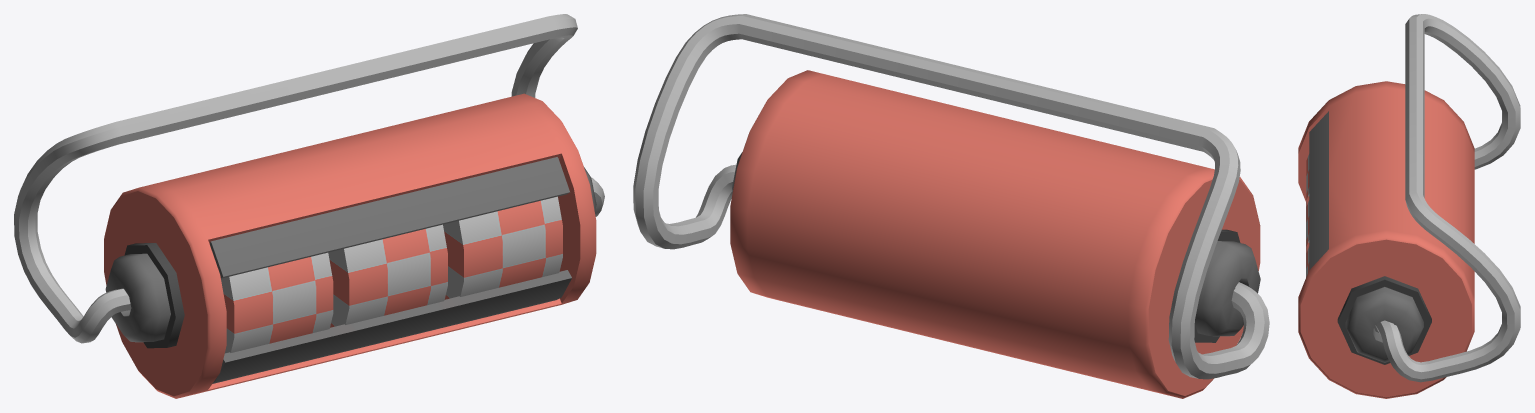
File: slot.FBX
3 views of the same model, side by side, from view 1: azimuth 30°, elevation 25°; view 2: azimuth 150°, elevation 25°; view 3: azimuth 270°, elevation 25° (orthographic). The views are drawn at different scales.
Parts seen in each view (by area): view 1: Cylinder061, Line013, Object014, Object015, Cylinder059, Cylinder058, Cylinder057; view 2: Cylinder061, Line013; view 3: Cylinder061, Line013, Object014.
Boxes of the visible parts, x1,y1,x2,y2 form: Cylinder061: [104, 93, 596, 398]; Line013: [14, 14, 604, 343]; Object014: [209, 157, 569, 278]; Object015: [212, 270, 571, 383]; Cylinder059: [443, 196, 562, 299]; Cylinder058: [328, 224, 447, 327]; Cylinder057: [221, 252, 333, 353]; Cylinder061: [730, 70, 1260, 398]; Line013: [633, 14, 1269, 379]; Cylinder061: [1298, 81, 1474, 398]; Line013: [1375, 14, 1520, 382]; Object014: [1309, 111, 1328, 269].
Bounding box in the file's own units: 339 × 163 × 152.
1 material, 1 textured.
